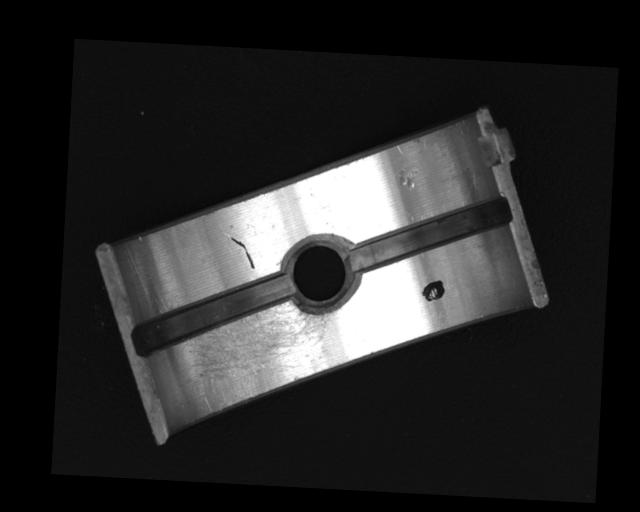blot: (420, 279, 446, 303)
bruise: (394, 165, 420, 191)
gap: (130, 264, 297, 364), (351, 191, 511, 280)
hole: (281, 235, 358, 313)
nick: (227, 236, 256, 271)
scratch: (183, 292, 335, 419)
